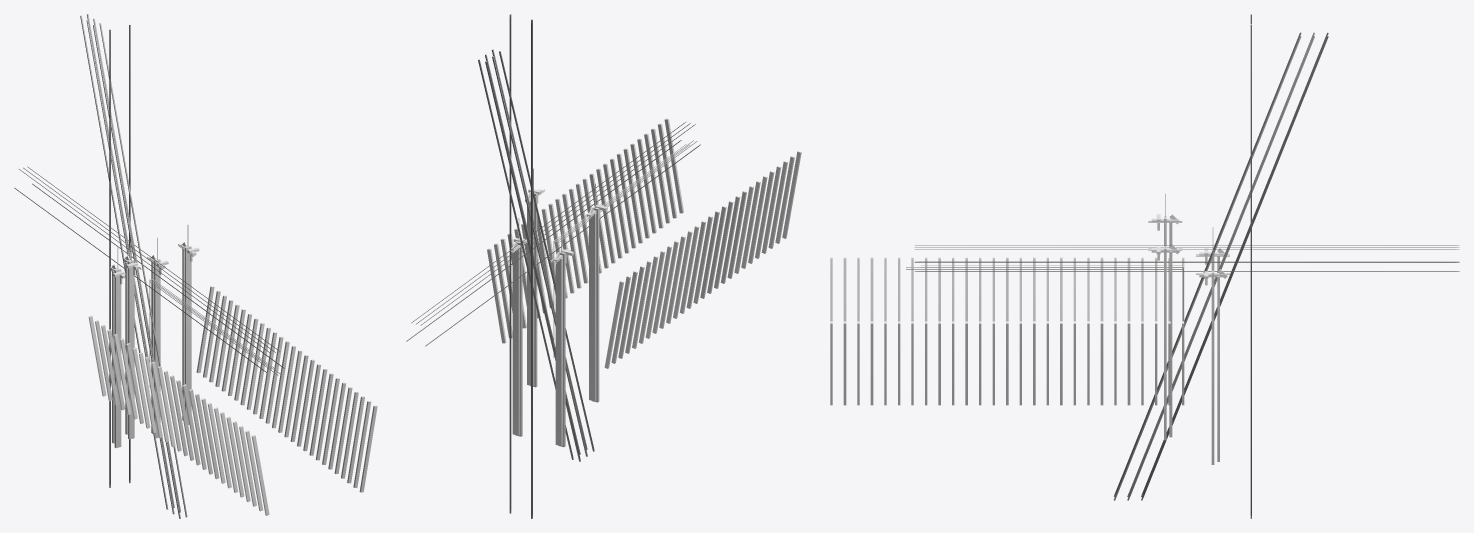
File: blackmetalmeshes3.obj
3 renders of one model, left to right at view 1: azimuth 30°, elevation 25°; view 2: azimuth 150°, elevation 25°; view 3: azimuth 270°, elevation 25°, orthographic. The views are drawn at different scales.
Bounding box in the file's own units: 290 × 1016 × 1173.
Materials: 1 (1 with a texture image).
